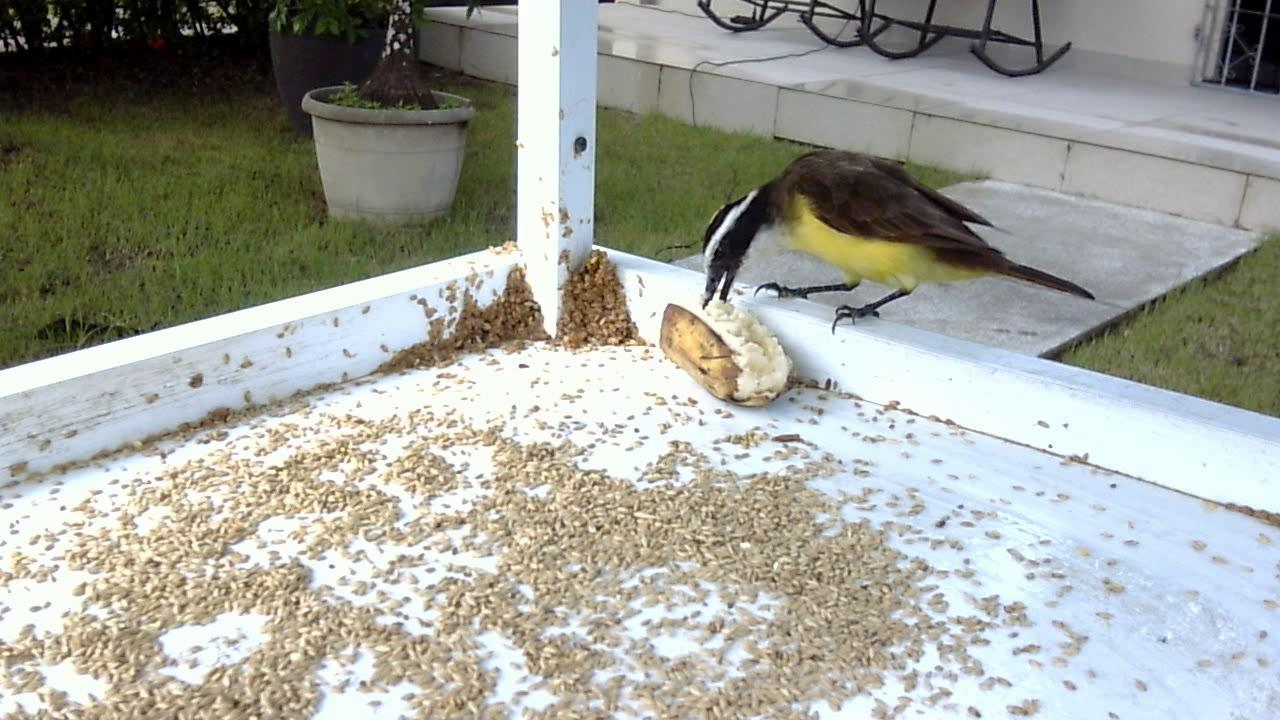bem_te_vi: (685, 133, 1114, 359)
